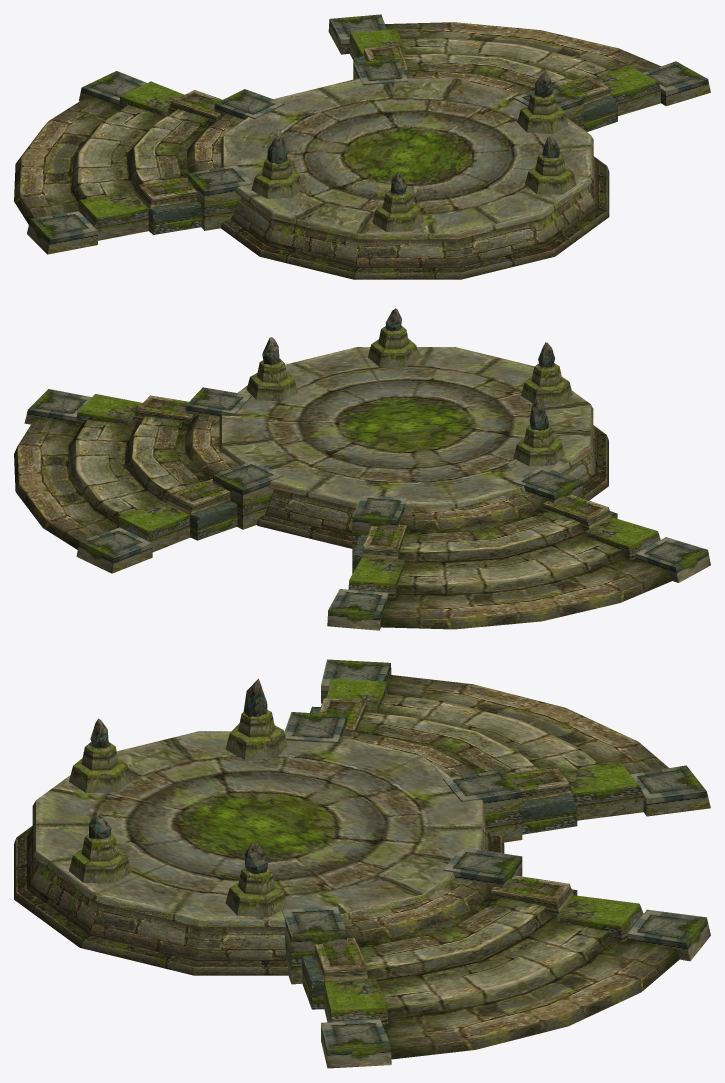
Rendered from 10101_Altar03.FBX.
3 renders of one model, top to bottom at view 1: azimuth 30°, elevation 25°; view 2: azimuth 150°, elevation 25°; view 3: azimuth 270°, elevation 25°, orthographic. The views are drawn at different scales.
Parts seen in each view (by area): view 1: 10102_Altar002; view 2: 10102_Altar002; view 3: 10102_Altar002.
Part boxes in pixels (<box>): 10102_Altar002: <box>14,14,710,279</box>; 10102_Altar002: <box>14,308,710,630</box>; 10102_Altar002: <box>14,659,710,1068</box>.
Size of the model in its own units: 894 by 123 by 669.
